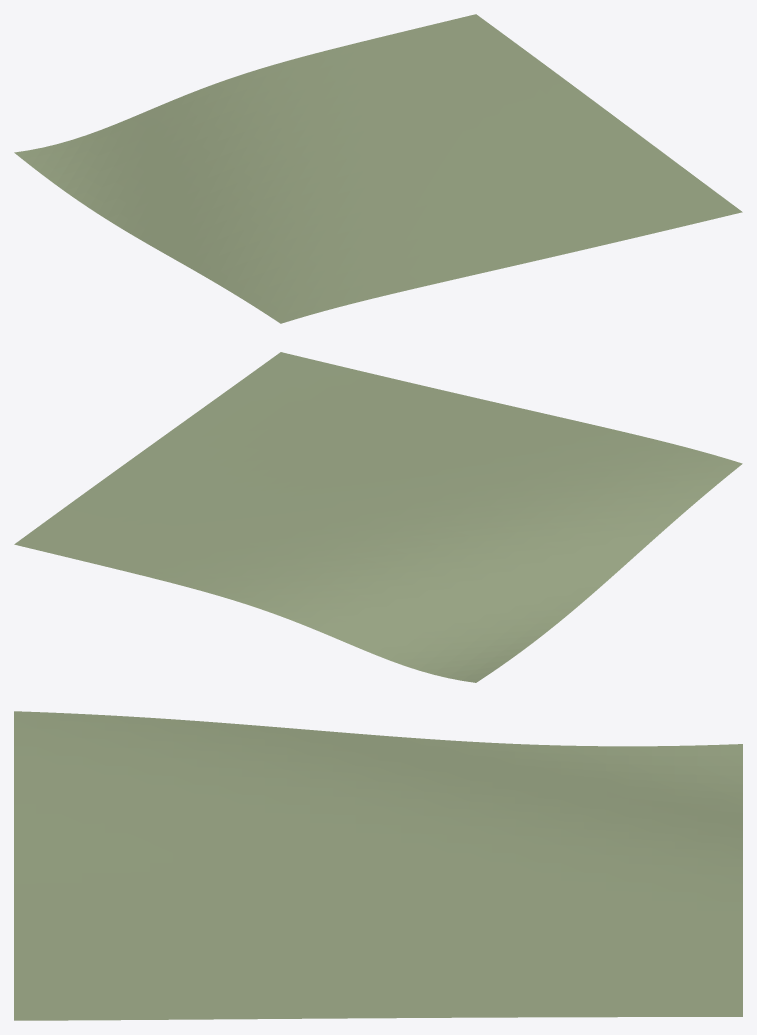
The model's file is desert-14-28.glb.
The picture shows the model from 3 angles, top to bottom: view 1: azimuth 30°, elevation 25°; view 2: azimuth 150°, elevation 25°; view 3: azimuth 270°, elevation 25°; orthographic projection. The views are drawn at different scales.
Parts seen in each view (by area): view 1: desert-14-28; view 2: desert-14-28; view 3: desert-14-28.
Boxes of the visible parts, bbox=[...] form: desert-14-28: bbox=[14, 14, 742, 323]; desert-14-28: bbox=[14, 352, 742, 682]; desert-14-28: bbox=[14, 711, 742, 1020].
Bounding box in the file's own units: 512 × 30.6 × 512.
